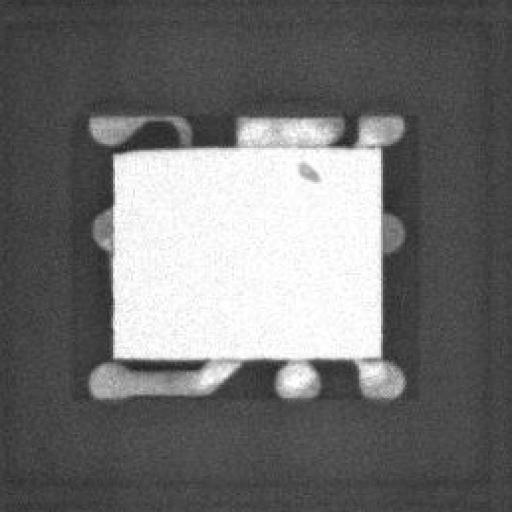DIE_INK: (277, 162, 307, 190)
